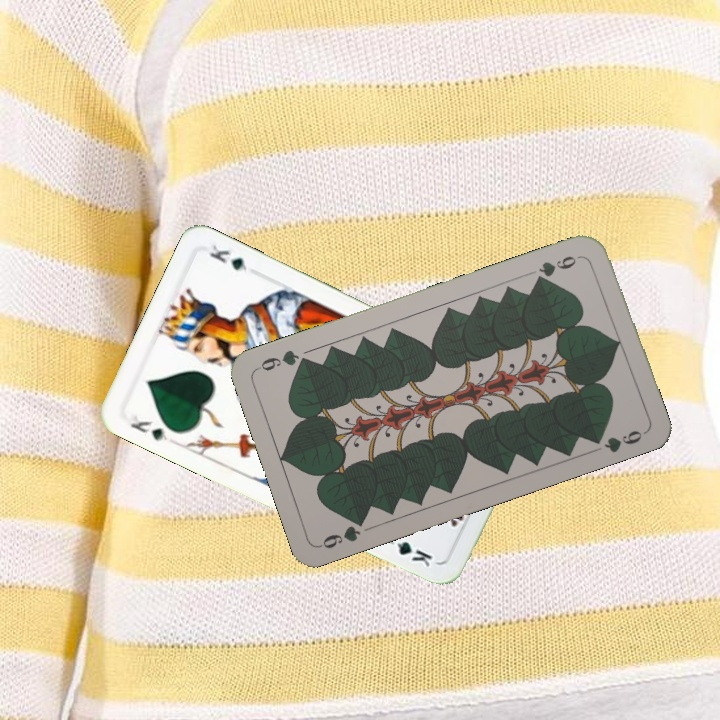G9: (316, 513, 369, 551), (531, 250, 586, 285)
GK: (126, 411, 170, 444)
